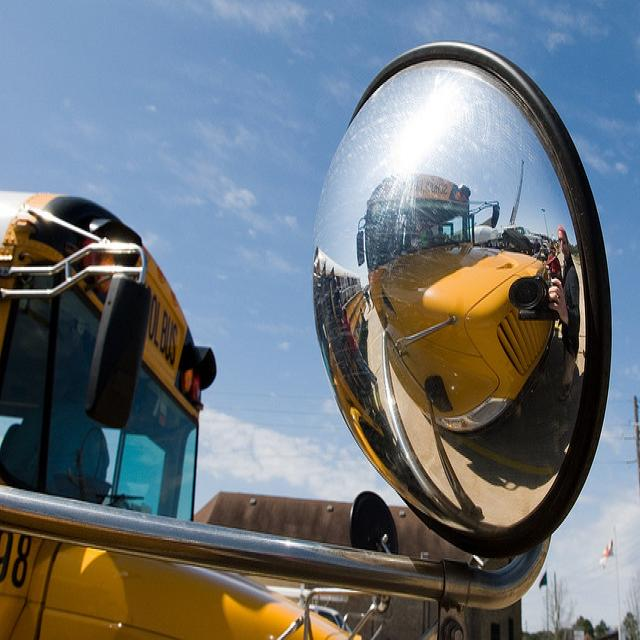Vehicle: (0, 38, 614, 640), (0, 190, 393, 632)
